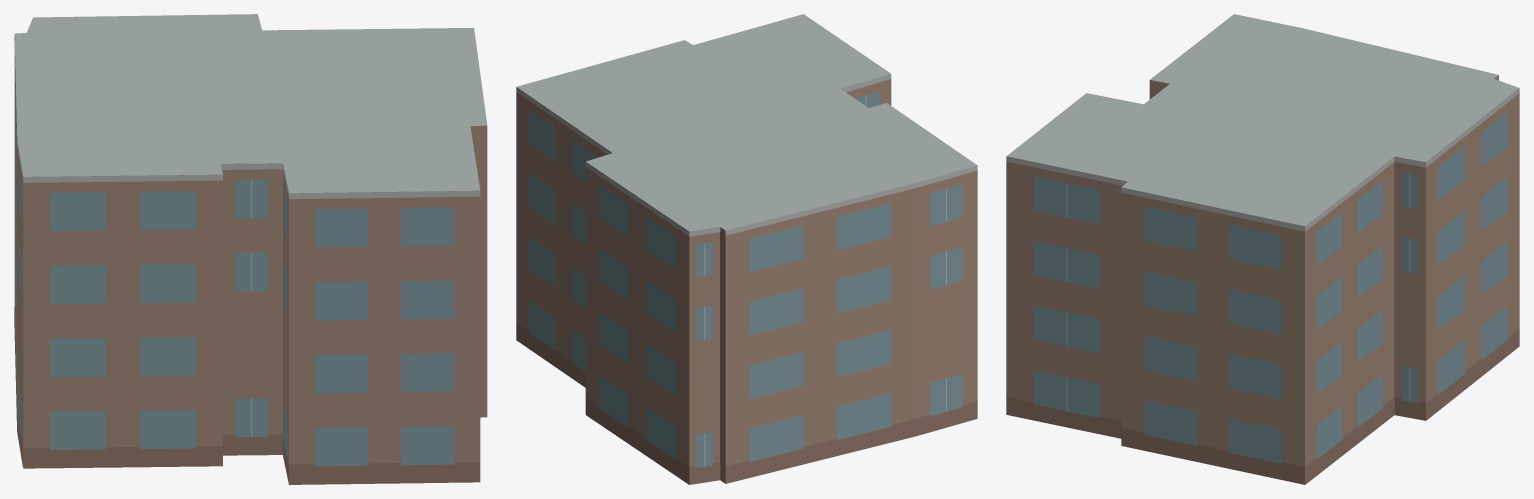
File: survey-upis-32663679.glb
3 views of the same model, side by side, from view 1: azimuth 30°, elevation 25°; view 2: azimuth 150°, elevation 25°; view 3: azimuth 270°, elevation 25° (orthographic). The views are drawn at different scales.
Visible parts, largest first — view 1: survey-upis-32663679.tmp; view 2: survey-upis-32663679.tmp; view 3: survey-upis-32663679.tmp.
Boxes of the visible parts, x1,y1,x2,y2 form: survey-upis-32663679.tmp: (14,14,487,484); survey-upis-32663679.tmp: (516,14,977,484); survey-upis-32663679.tmp: (1006,14,1519,484).
Bounding box in the file's own units: 20.95 × 11.89 × 21.39.
